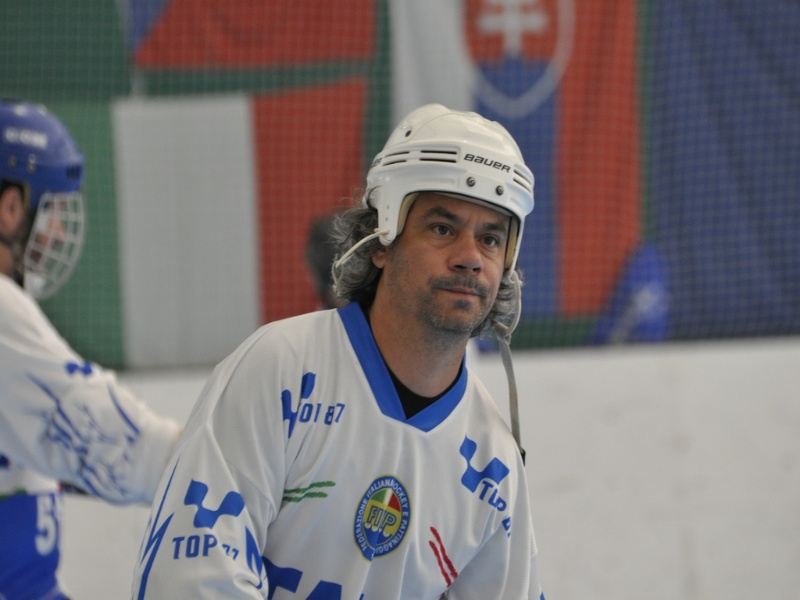Baret: (362, 102, 537, 238)
